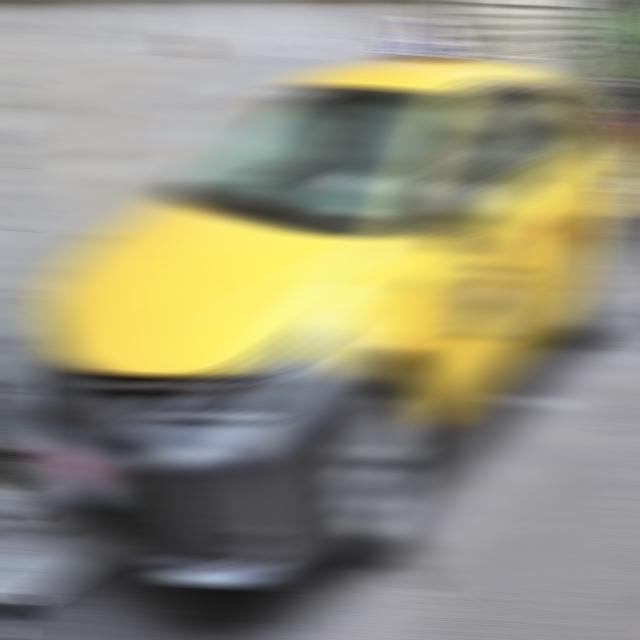Taxi: (14, 57, 626, 588)
